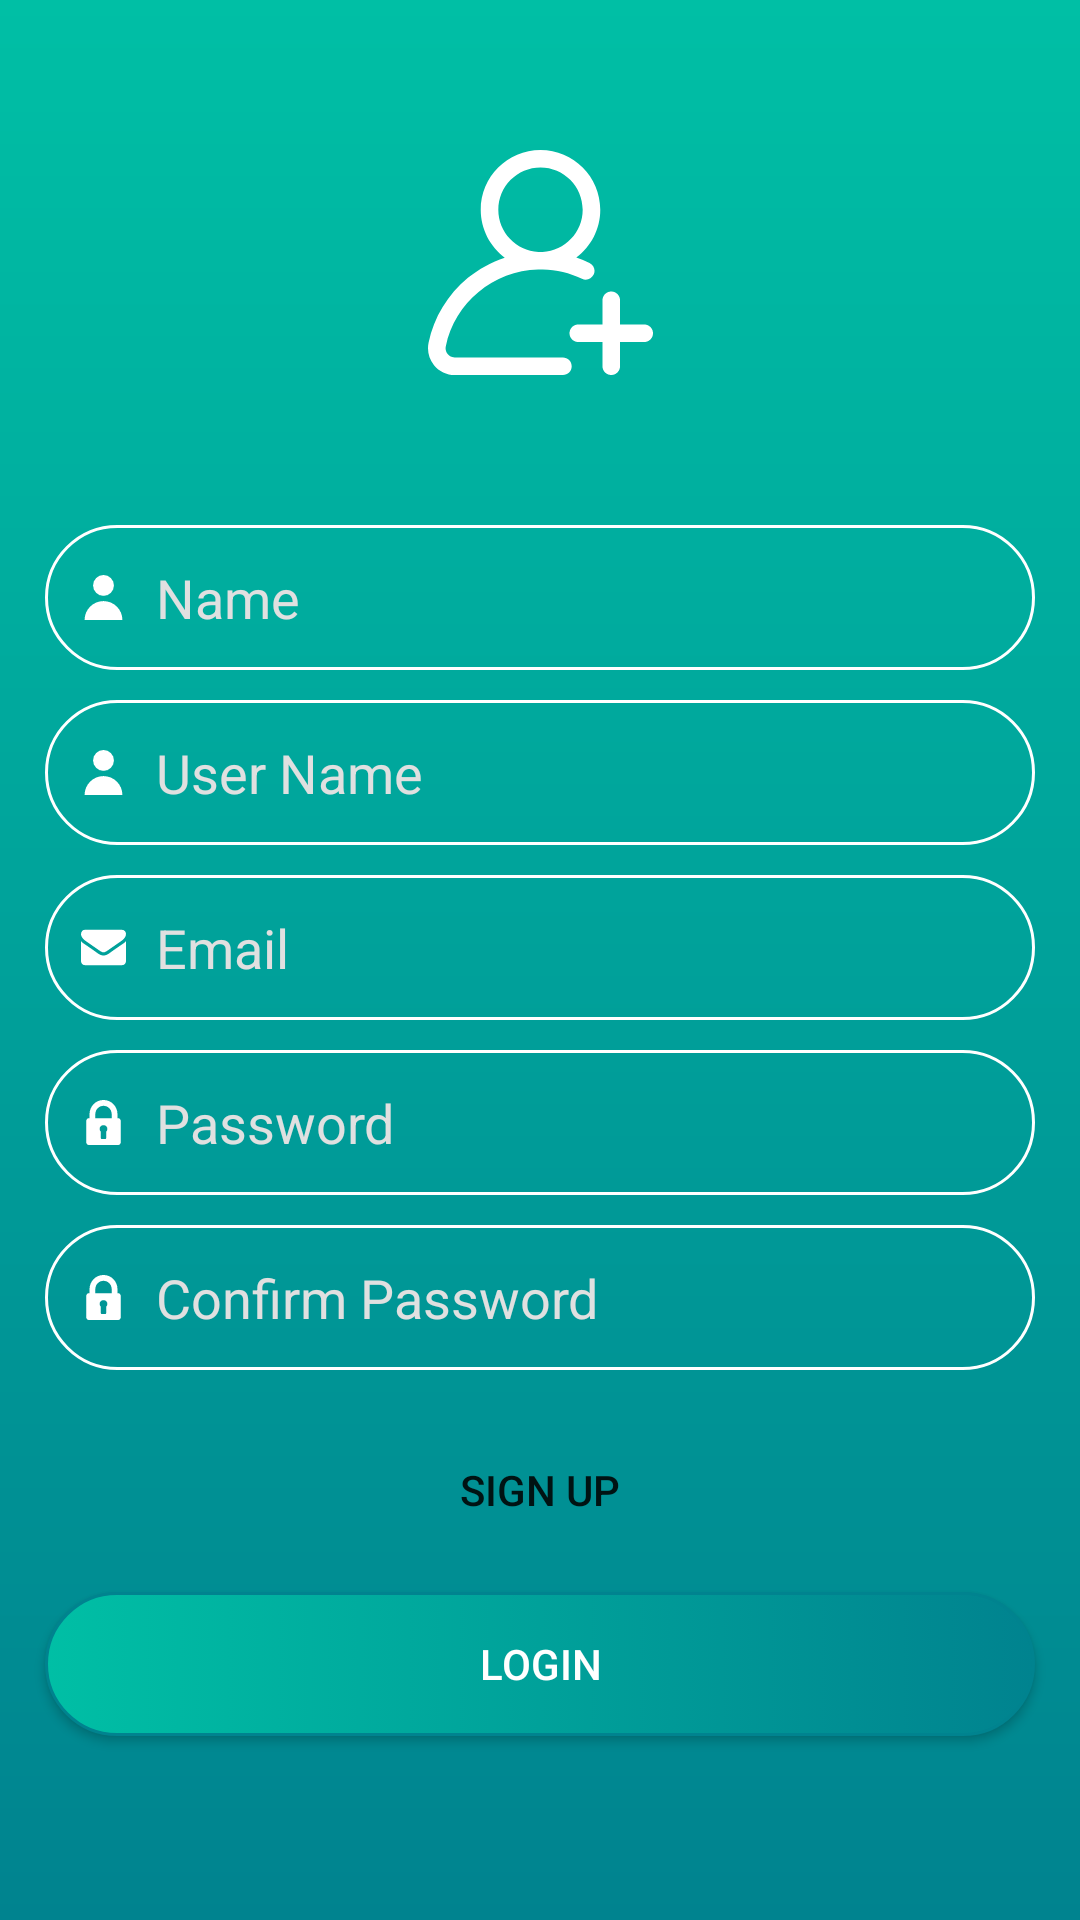

Icon bounding boxes for this 1080*1920 phone screenshot, format (x1, y1, x2, y2):
add user: (428, 150, 653, 375)
